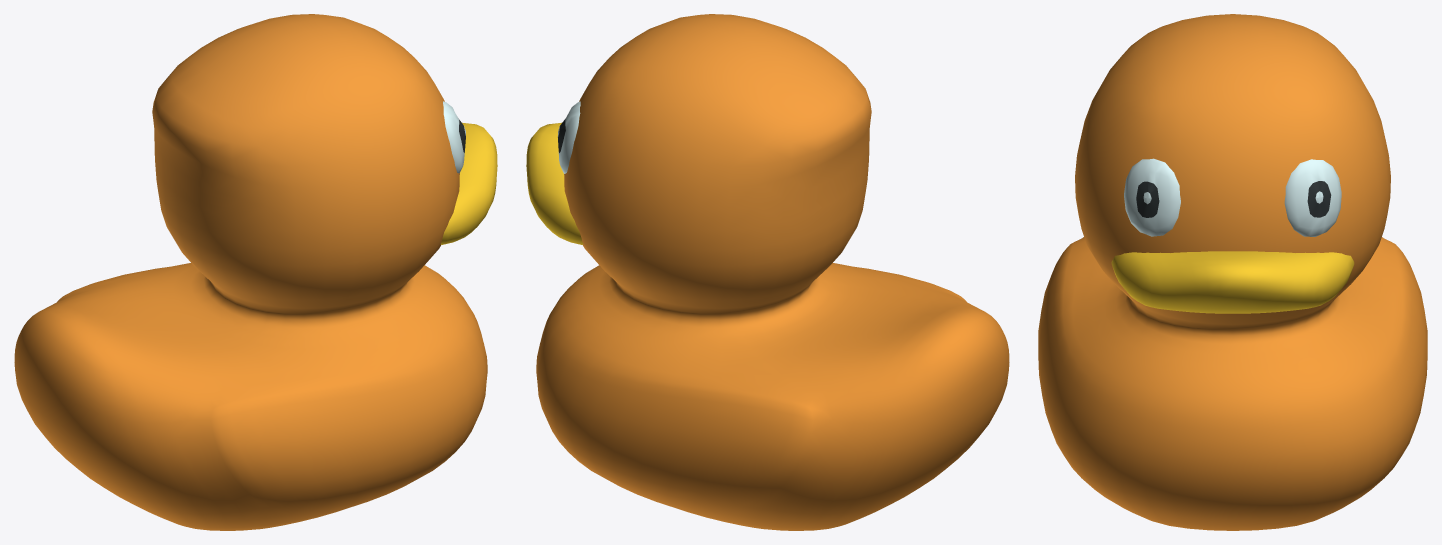
Rendered from Rubber Ducky Orange.fbx.
3 renders of one model, left to right at view 1: azimuth 30°, elevation 25°; view 2: azimuth 150°, elevation 25°; view 3: azimuth 270°, elevation 25°, orthographic. The views are drawn at different scales.
Parts seen in each view (by area): view 1: Rubber_Duck; view 2: Rubber_Duck; view 3: Rubber_Duck.
Boxes of the visible parts, x1=… form: Rubber_Duck: x1=14, y1=14, x2=497, y2=530; Rubber_Duck: x1=526, y1=14, x2=1009, y2=530; Rubber_Duck: x1=1038, y1=14, x2=1427, y2=530.
Size of the model in its own units: 8.53 by 8.27 by 6.1.
Materials: 1 (1 with a texture image).
